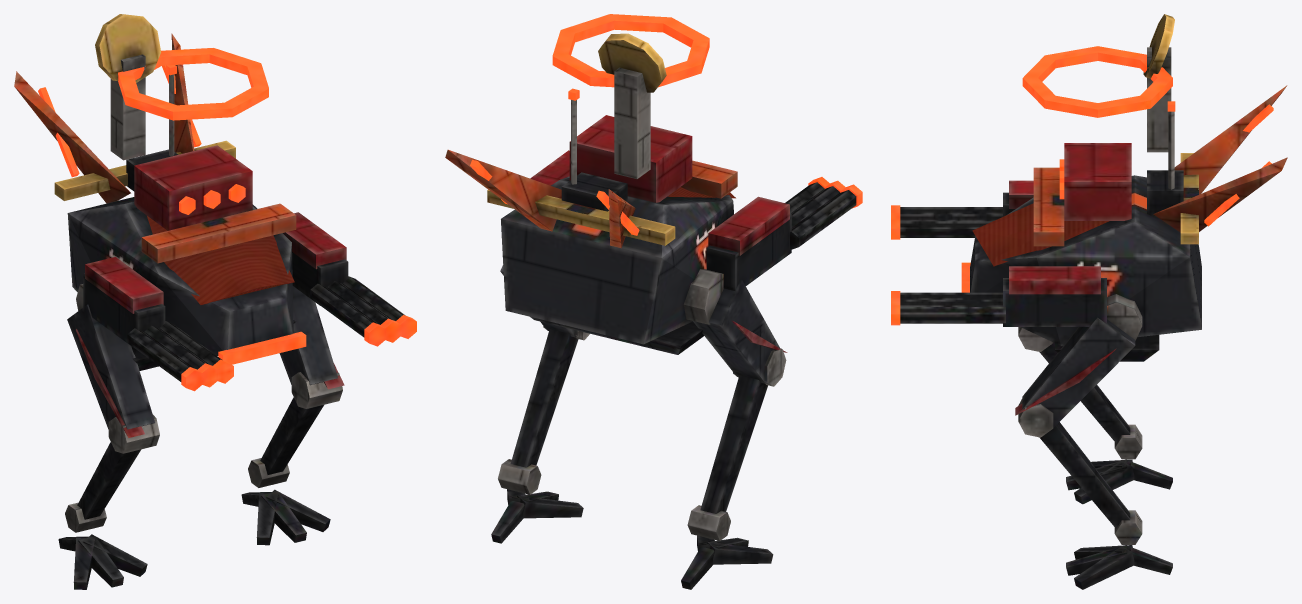
File: u_ranger4_e.glb
3 views of the same model, side by side, from view 1: azimuth 30°, elevation 25°; view 2: azimuth 150°, elevation 25°; view 3: azimuth 270°, elevation 25° (orthographic). The views are drawn at different scales.
Visible parts, largest first — view 1: u_ranger4_e; view 2: u_ranger4_e; view 3: u_ranger4_e.
Boxes of the visible parts, <box> form: u_ranger4_e: <box>14,14,416,589</box>; u_ranger4_e: <box>445,14,862,589</box>; u_ranger4_e: <box>891,14,1287,589</box>.
Size of the model in its own units: 1.14 by 2.21 by 1.6.
Materials: 1 (1 with a texture image).
